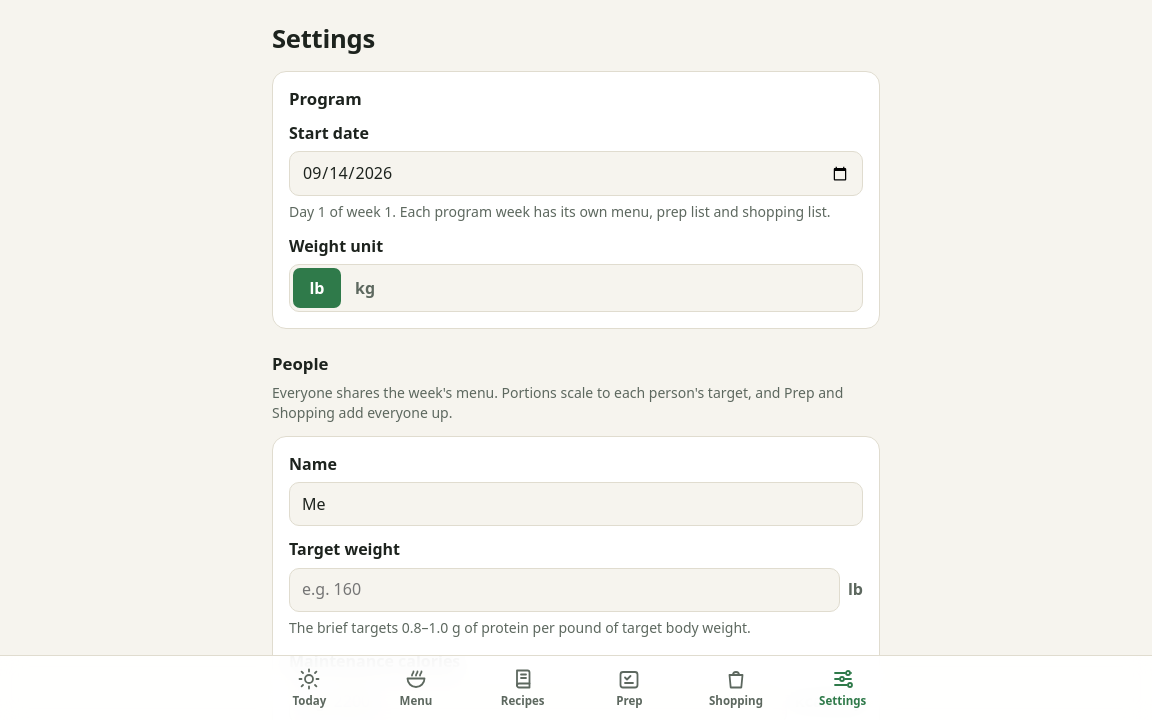
Test: Settings › validates the target weight before saving it
Step 1. Type "20" into the number field labelled "Target weight" → (564, 590), box x1=289 y1=568 x2=840 y2=612
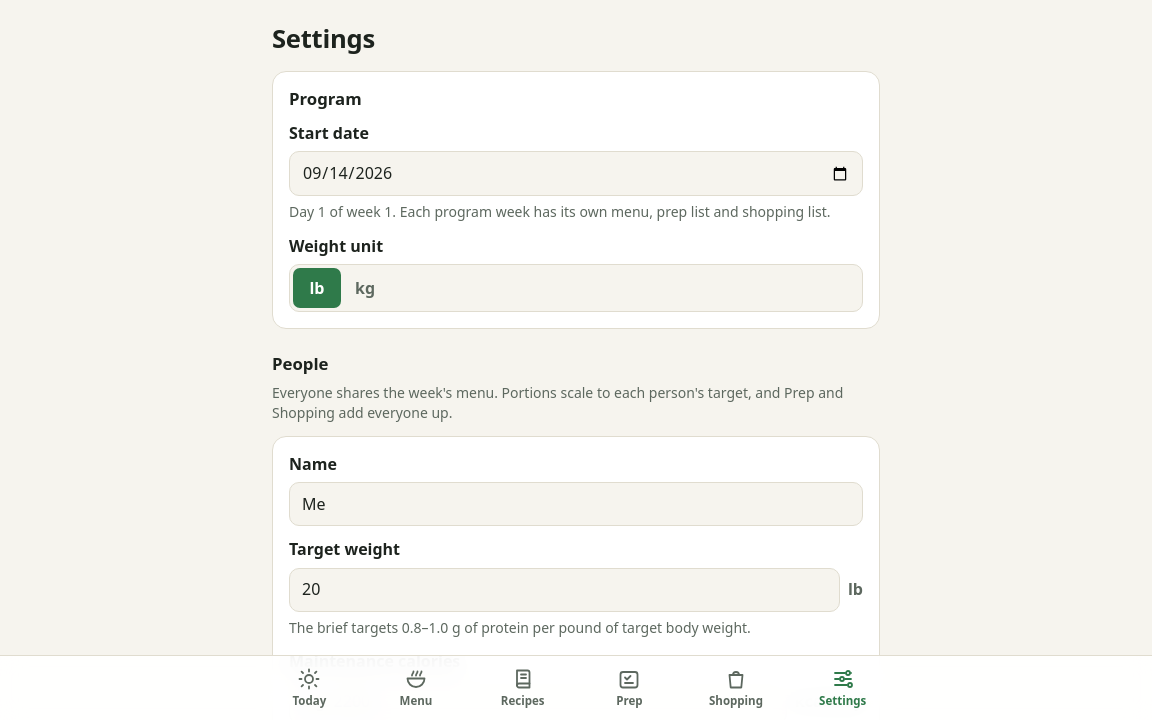
Check: the text "Enter a weight between 80 and 600 lb." is not shown
Step 2. Leave the number field labelled "Target weight", box x1=289 y1=568 x2=840 y2=612
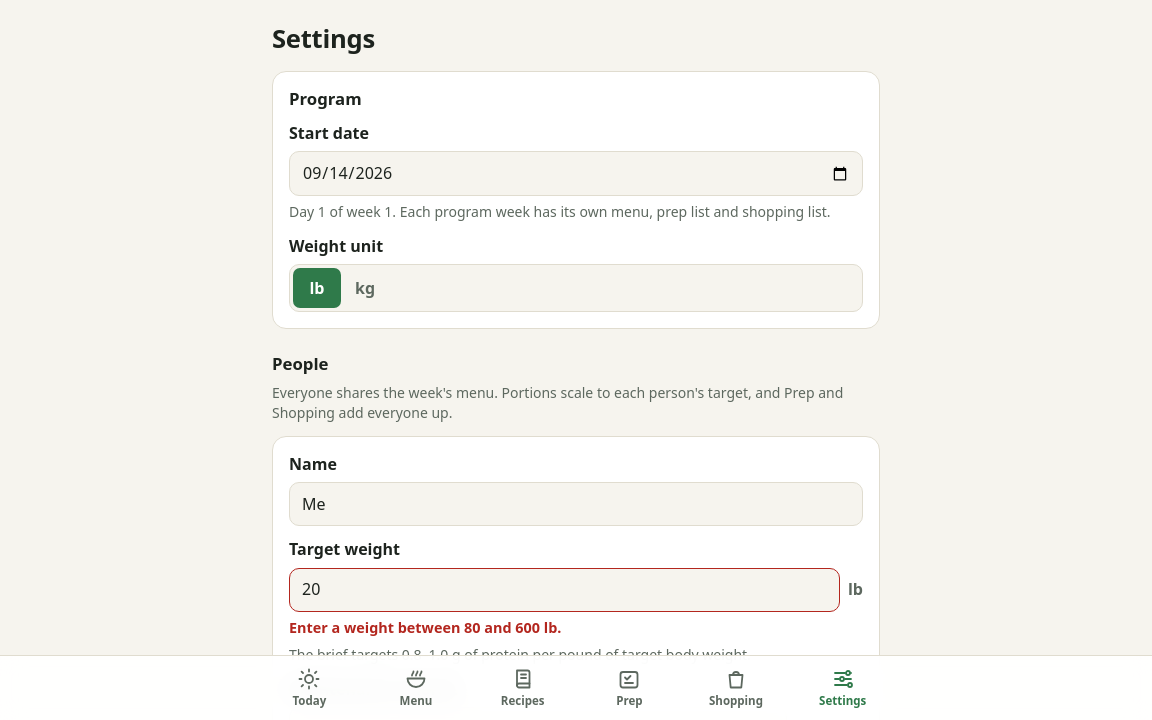
Check: the text "Enter a weight between 80 and 600 lb." is shown, box x1=289 y1=618 x2=561 y2=637
Step 3. Replace the text in the number field labelled "Target weight" with "160" → (564, 590), box x1=289 y1=568 x2=840 y2=612
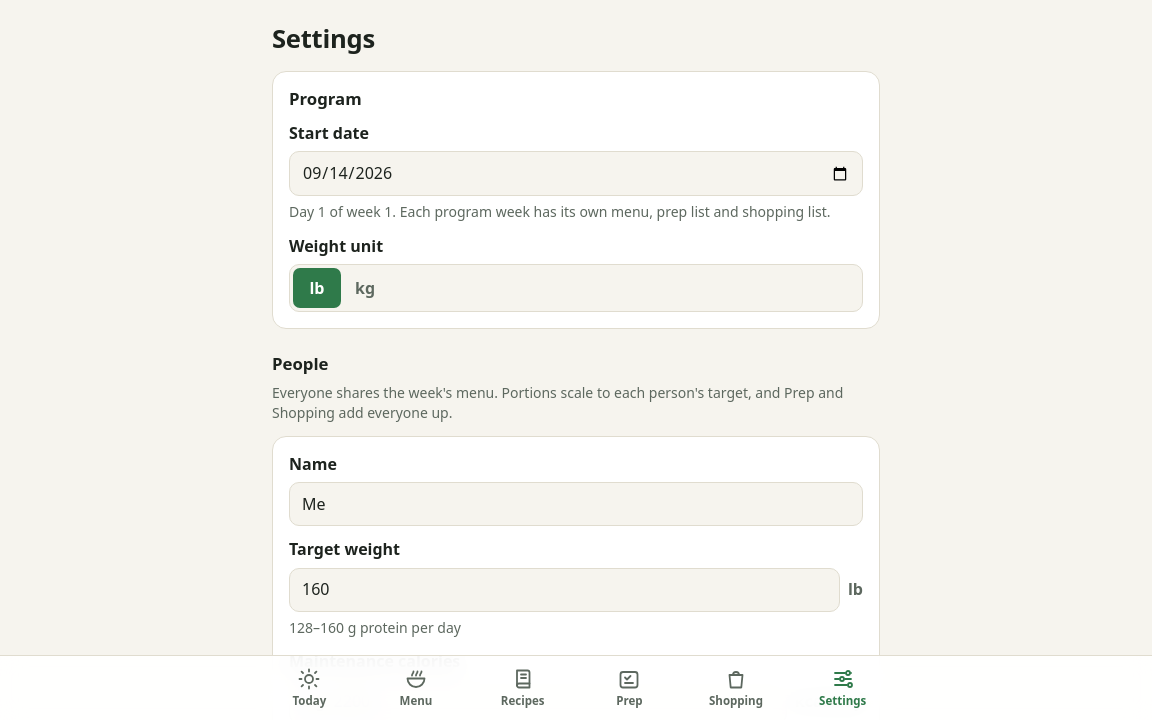
Check: the text "Enter a weight between 80 and 600 lb." is gone
Check: the text "128–160 g protein per day" is shown, box x1=289 y1=618 x2=461 y2=637
